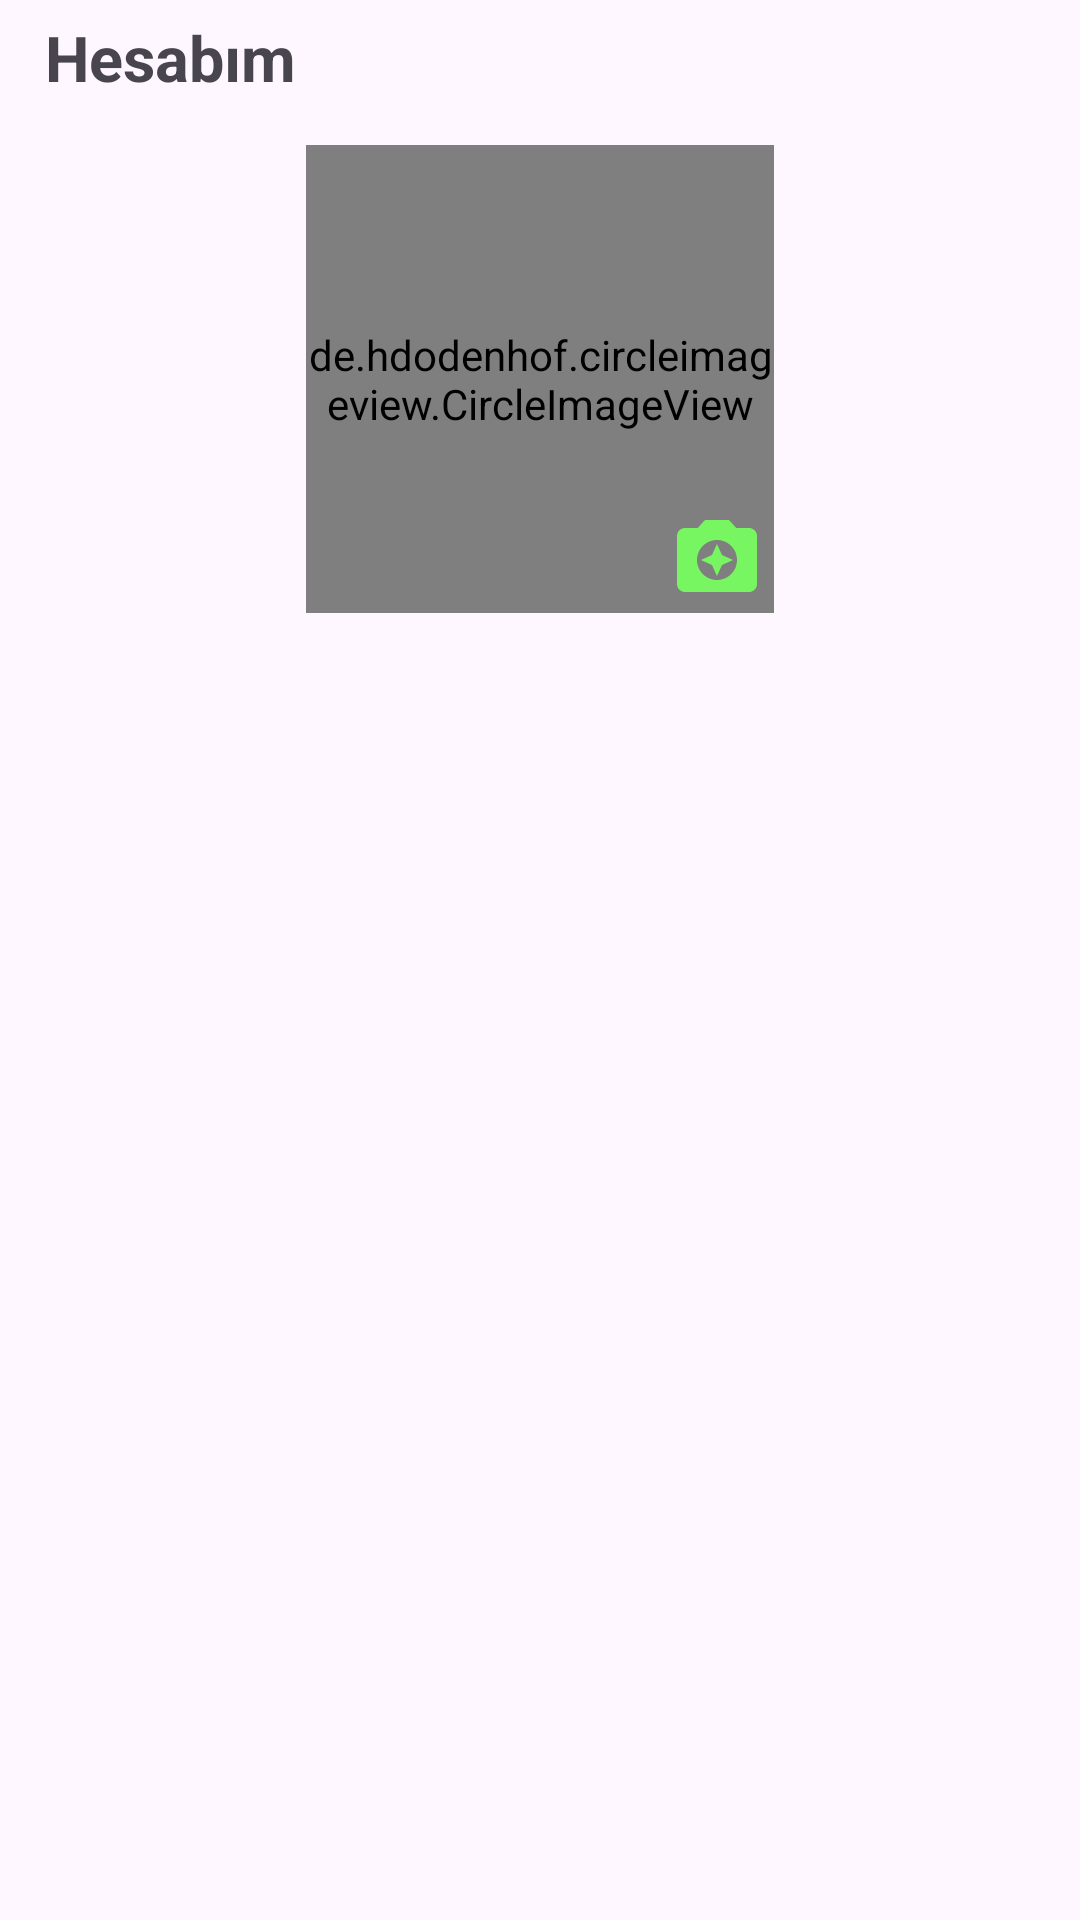

Icons on this 1080px×1920px Android screen, each with its box as {"x1": x1, "y1": y1, "x2": x2, "y2": y2}:
camera: {"x1": 677, "y1": 520, "x2": 757, "y2": 592}
